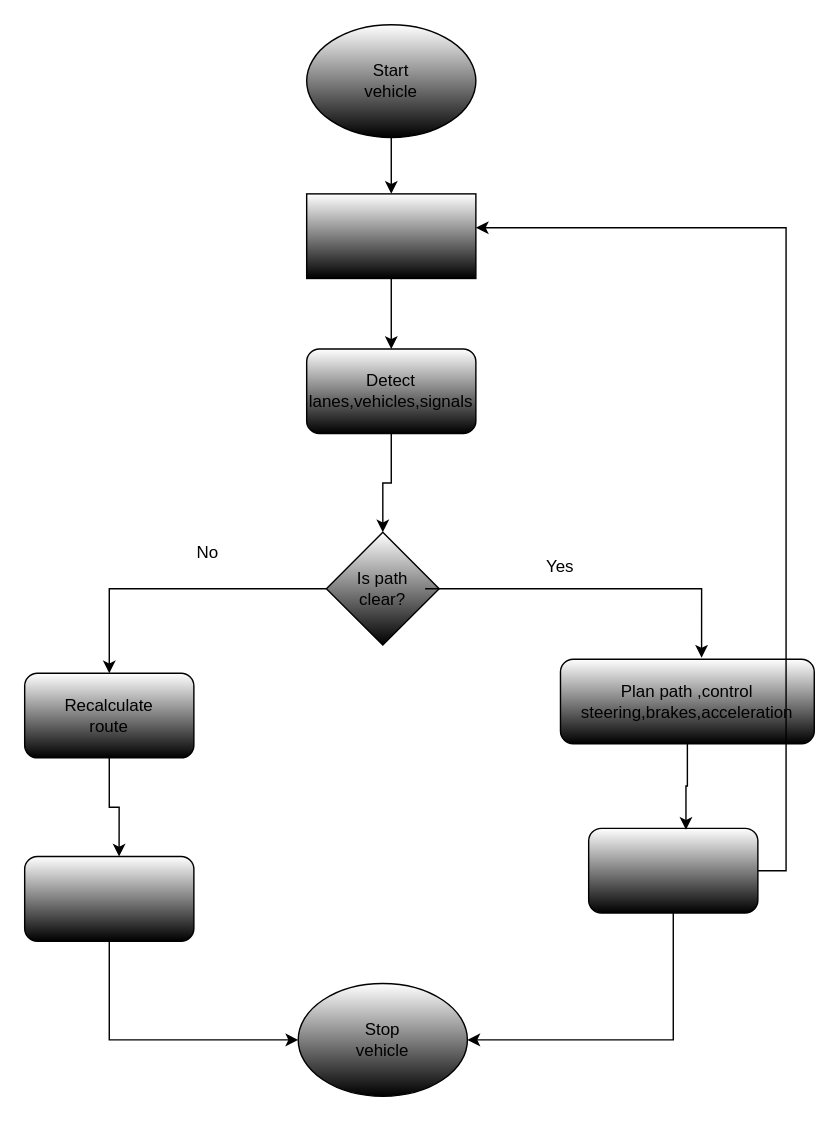
Some shapes in this 839 by 1121 pixel diagram are drawn without their labels. The shapes that lost their labels are listed below. From the top down, each one's centre as x and y in pixels, then its label:
At [390,235]: "Collect sensor data".
At [672,870]: "Vehicle moves".
At [108,898]: "Plan path and speed".
